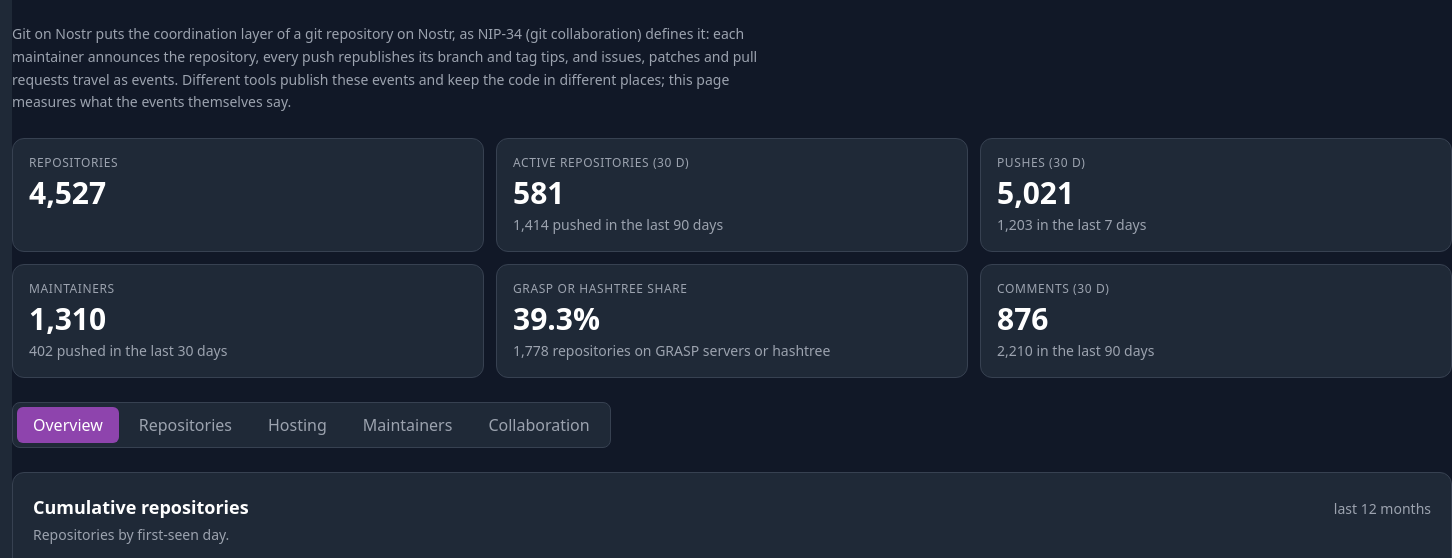
Test case: /git hosting and maintainers › says each repository is in ONE class, so no slice double-counts another
Click the link with id "tab-hosting".
click(297, 425)  # box [268,414,327,436]
(page scrolled)
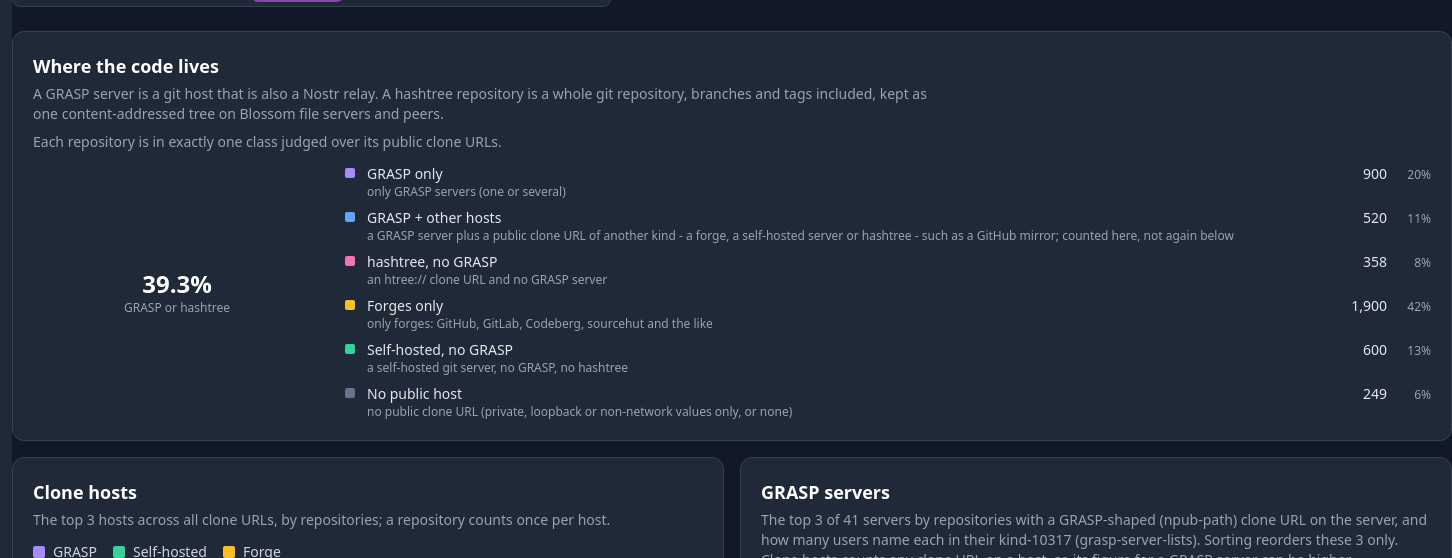
Expected: the element that starts with "Where the code lives" shows "Each repository is in exactly one class judged over its public clone URLs.", [33,132,502,151]
Expected: the text "a self-hosted server or hashtree" is shown, [367,227,1234,244]
Expected: the text "; counted here, not again below" is shown, [367,227,1234,244]
